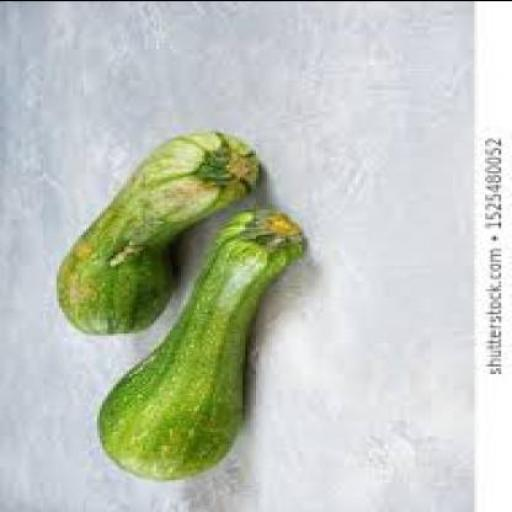biodegradable: (94, 210, 302, 484), (51, 133, 262, 336)
